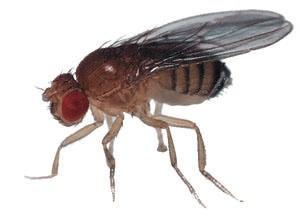house fly: (23, 8, 295, 209)
